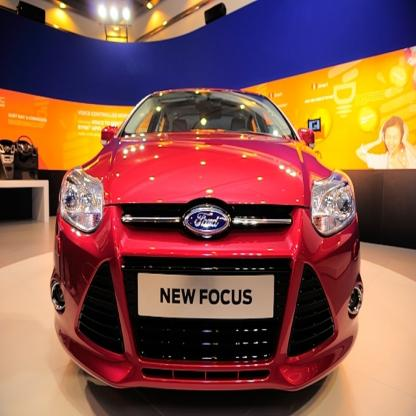Car: (51, 90, 365, 393)
